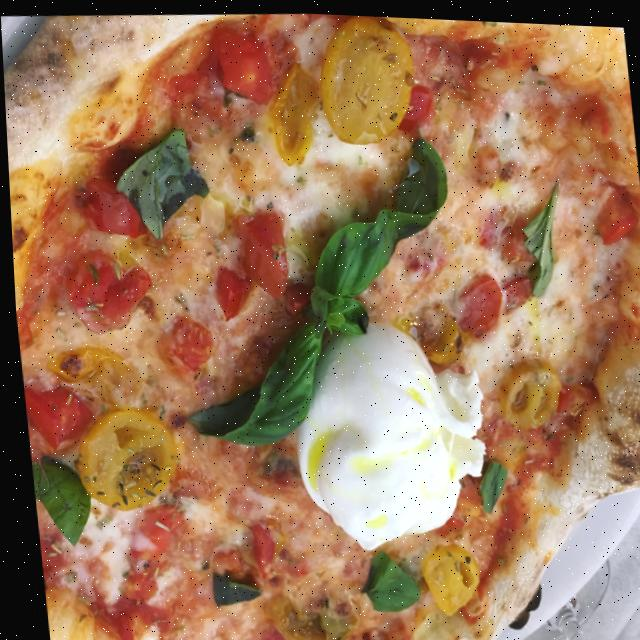basil: (286, 128, 471, 340), (168, 298, 353, 460), (107, 120, 213, 240), (511, 172, 573, 297), (25, 447, 94, 548), (347, 542, 422, 617), (466, 453, 514, 516), (204, 563, 257, 612)
pizza: (0, 0, 640, 640)
tomatoes: (67, 393, 184, 526), (314, 11, 421, 147), (204, 199, 292, 330), (99, 506, 185, 631), (411, 261, 512, 367), (62, 237, 156, 340), (265, 37, 331, 172), (411, 528, 488, 624), (206, 15, 277, 119), (18, 377, 101, 460), (490, 347, 565, 433), (39, 342, 140, 402), (86, 181, 142, 250), (151, 315, 212, 378), (392, 77, 440, 135), (237, 517, 275, 580)
